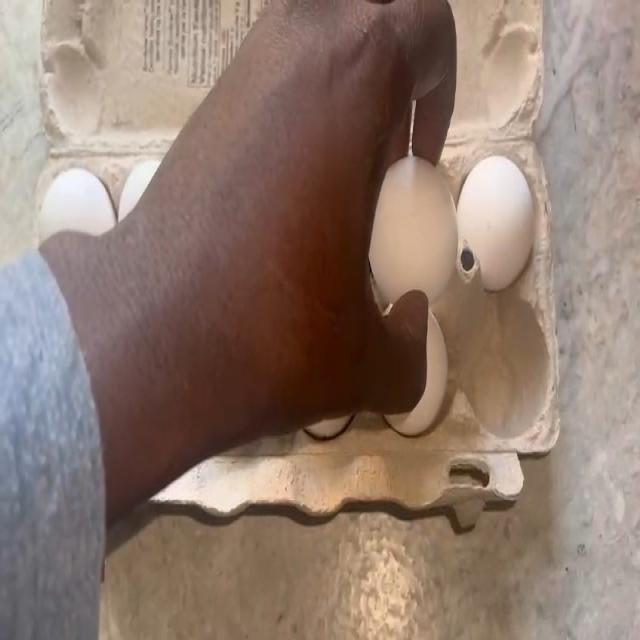Egg: (468, 163, 534, 281), (392, 178, 450, 287), (46, 175, 104, 235)
